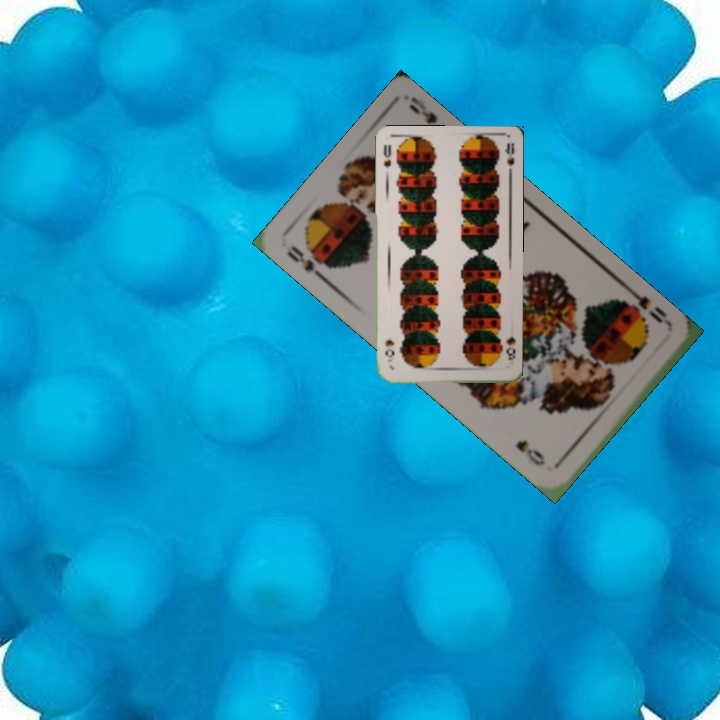S8: (502, 333, 518, 363), (379, 140, 394, 170)
SO: (618, 285, 675, 332), (282, 241, 330, 285)
